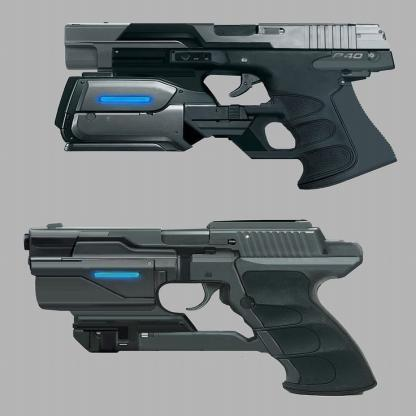Pistol: (21, 209, 382, 398), (53, 16, 399, 189)
